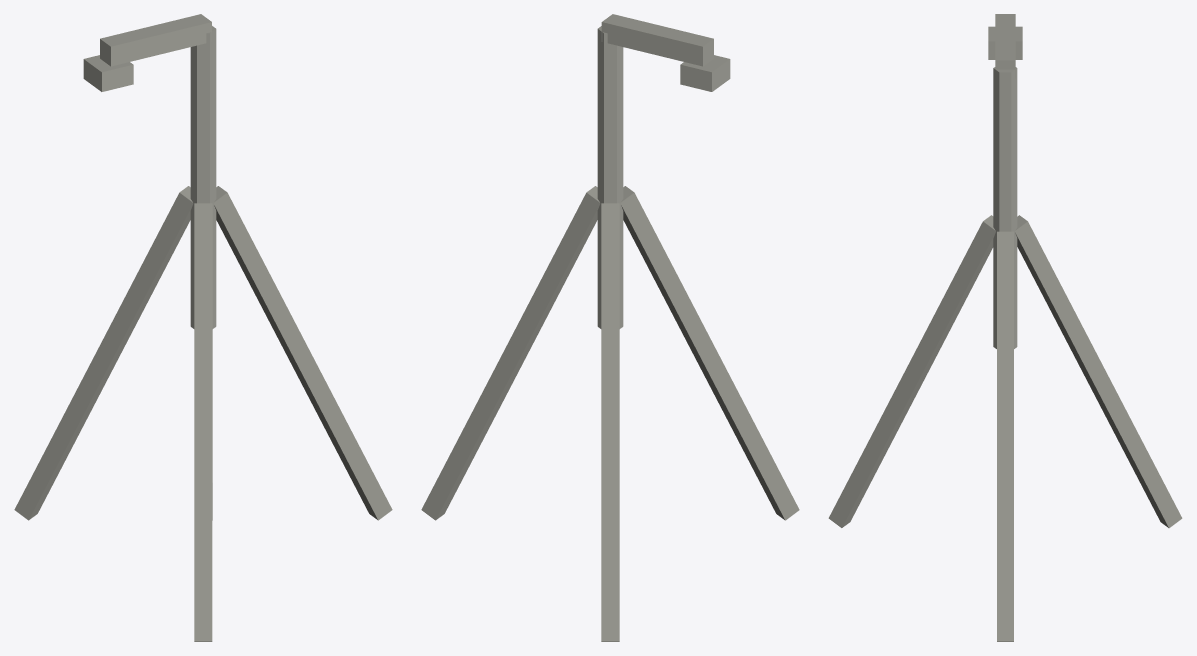
The model's file is SM_PosteFoco_v2_Tripode_LOD1.fbx.
3 views of the same model, side by side, from view 1: azimuth 30°, elevation 25°; view 2: azimuth 150°, elevation 25°; view 3: azimuth 270°, elevation 25° (orthographic). The views are drawn at different scales.
Visible parts, largest first — view 1: SM_poste_foco_v2_LOD1; view 2: SM_poste_foco_v2_LOD1; view 3: SM_poste_foco_v2_LOD1.
Part boxes in pixels (<box>): SM_poste_foco_v2_LOD1: <box>14,14,392,641</box>; SM_poste_foco_v2_LOD1: <box>421,14,799,641</box>; SM_poste_foco_v2_LOD1: <box>828,14,1182,641</box>.
Size of the model in its own units: 0.9335 by 1.63 by 1.04.
